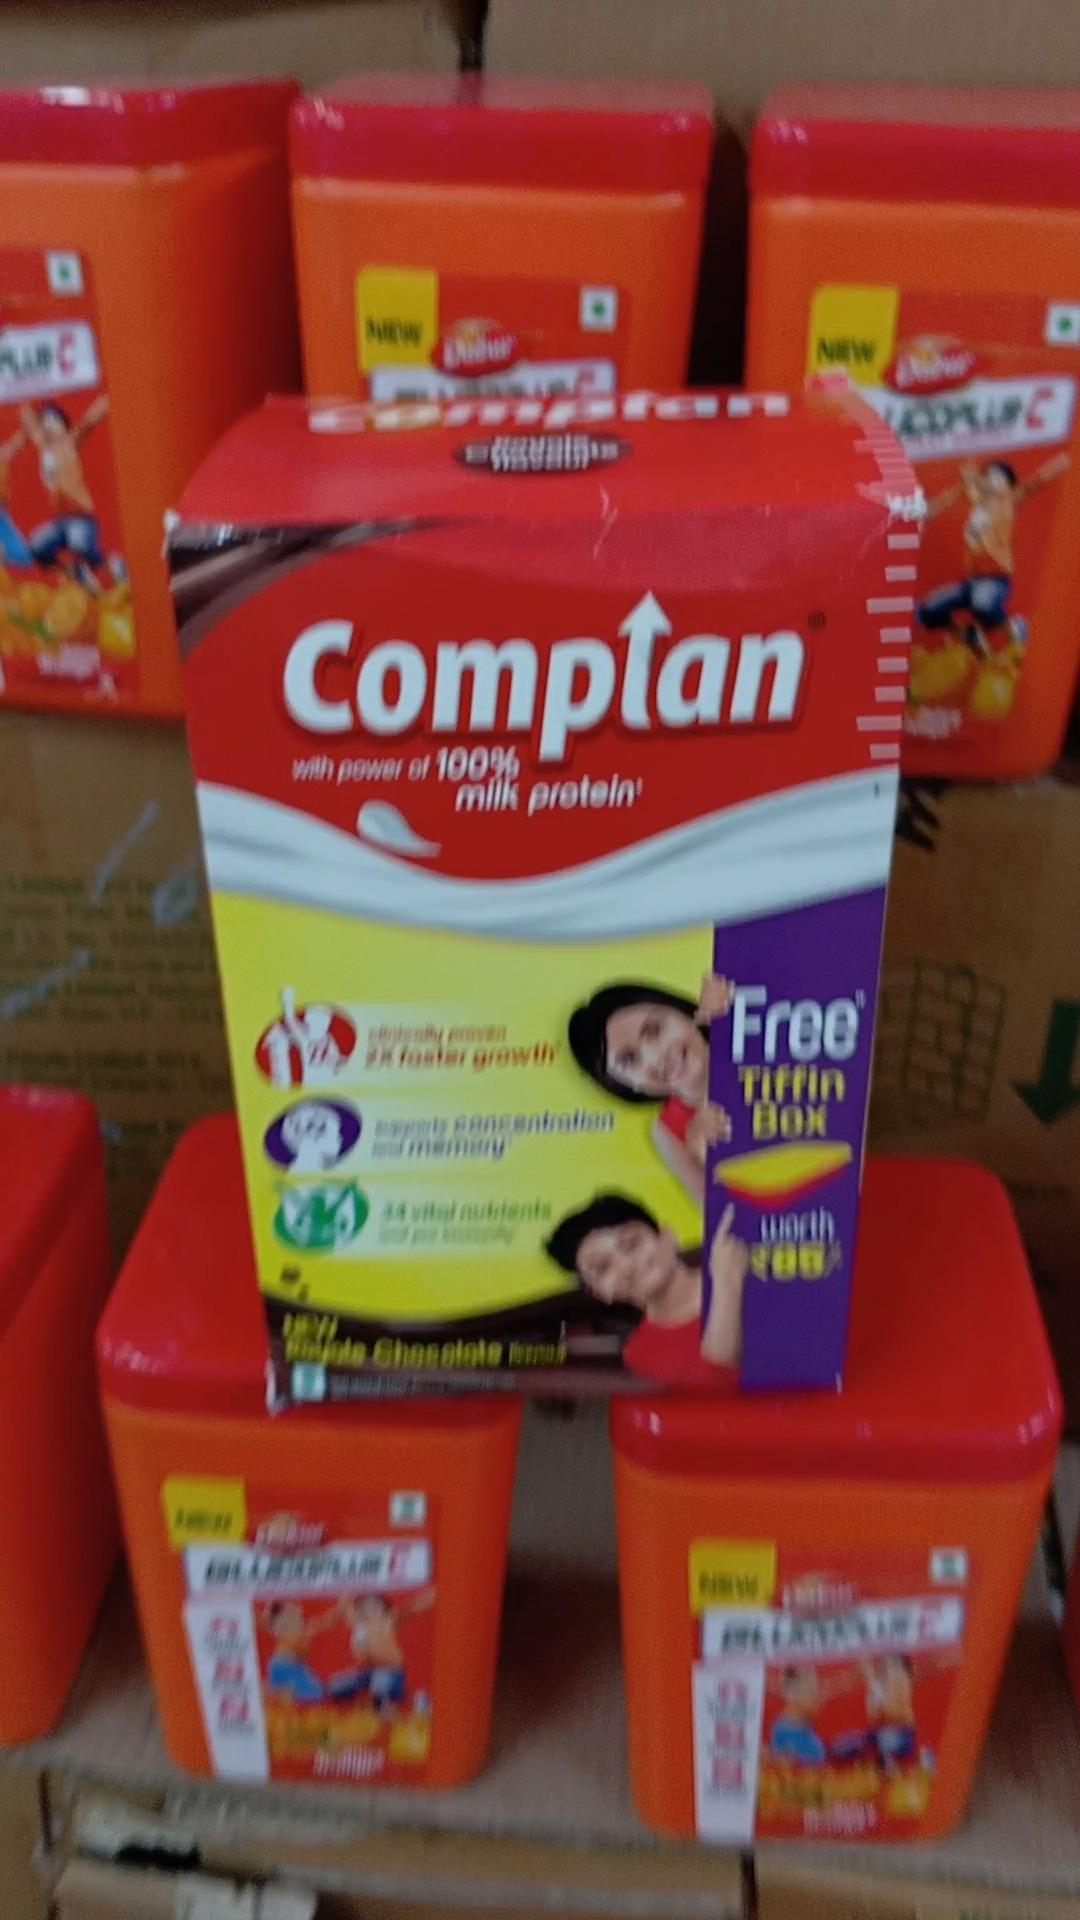COMPLAN_CHOCOLATE_500_GMS_PACK: (227, 521, 852, 1403)
